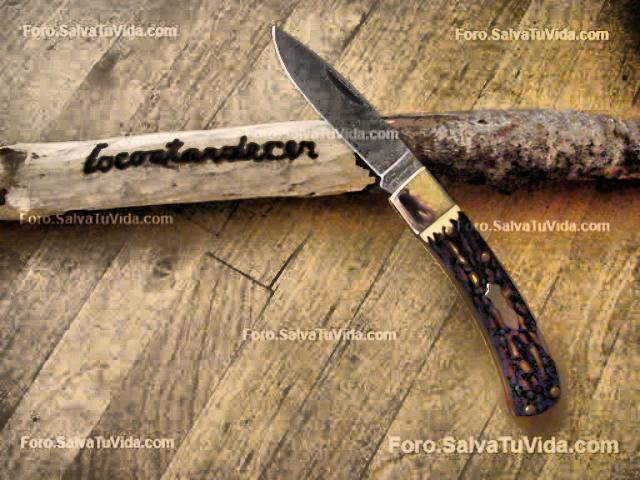knife: (264, 11, 450, 237)
